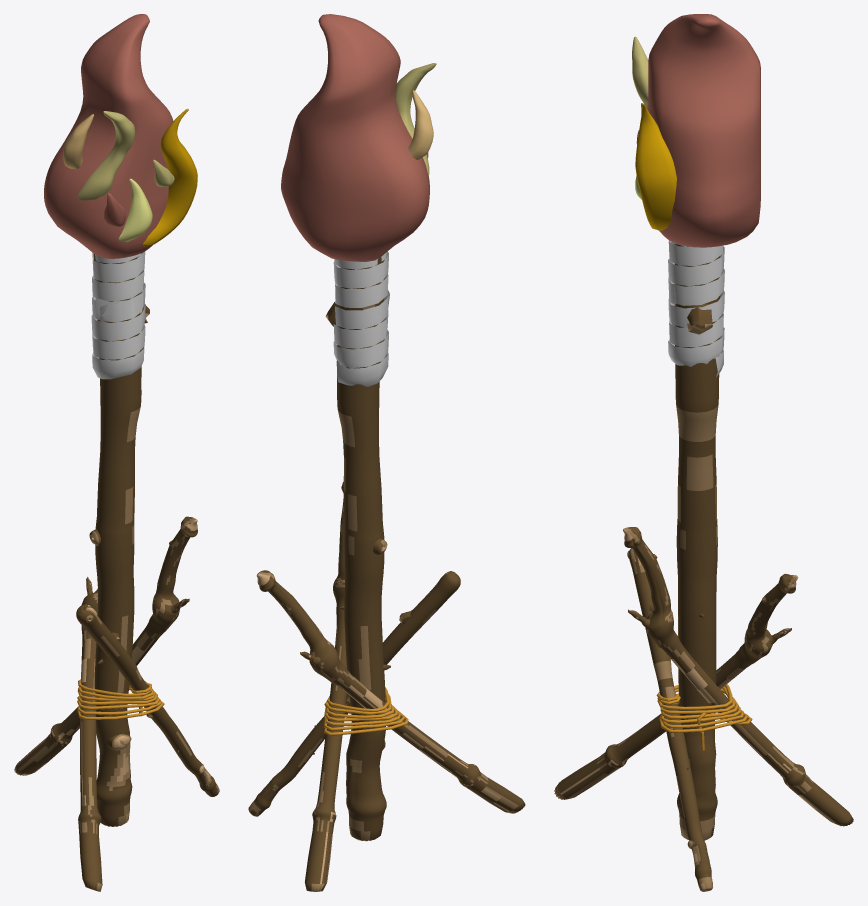
File: Torch.RTpaint.fbx
The picture shows the model from 3 angles, left to right: view 1: azimuth 30°, elevation 25°; view 2: azimuth 150°, elevation 25°; view 3: azimuth 270°, elevation 25°; orthographic projection. The views are drawn at different scales.
Parts seen in each view (by area): view 1: pCylinder11; view 2: pCylinder11; view 3: pCylinder11.
Part boxes in pixels (box(x1,y1,x2,y2)): pCylinder11: box(14, 14, 219, 891); pCylinder11: box(248, 14, 525, 891); pCylinder11: box(554, 14, 853, 891).
Bounding box in the file's own units: 2.53 × 9.66 × 3.12.
